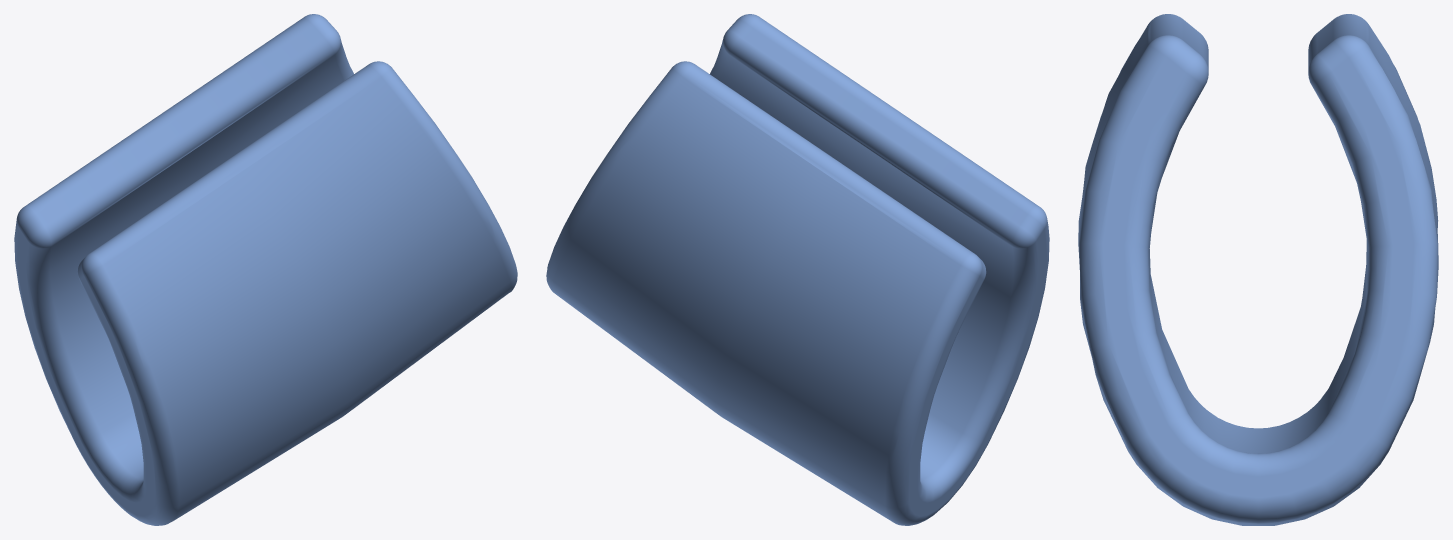
File: _60355K291_Steel_Ball_Bearing_17.gltf
3 views of the same model, side by side, from view 1: azimuth 30°, elevation 25°; view 2: azimuth 150°, elevation 25°; view 3: azimuth 270°, elevation 25° (orthographic). The views are drawn at different scales.
Parts seen in each view (by area): view 1: mesh52245, mesh52249, mesh52240, mesh52246, mesh52244, mesh52235, mesh52241, mesh52231, mesh52242, mesh52254, mesh52243, mesh52253 (+2 smaller); view 2: mesh52233, mesh52263, mesh52262, mesh52231, mesh52229, mesh52261, mesh52260, mesh52246, mesh52242, mesh52254, mesh52238, mesh52253 (+2 smaller); view 3: mesh52251, mesh52238, mesh52243, mesh52257, mesh52248, mesh52239, mesh52250, mesh52258, mesh52233, mesh52245, mesh52249, mesh52263 (+9 smaller).
Boxes of the visible parts, x1,y1,x2,y2 form: mesh52245: (103,77,510,505); mesh52249: (50,55,343,432); mesh52240: (44,37,334,245); mesh52246: (91,65,380,264); mesh52244: (84,265,179,507); mesh52235: (36,26,323,225); mesh52241: (25,241,100,442); mesh52231: (26,17,313,213); mesh52242: (173,281,511,520); mesh52254: (17,229,154,516); mesh52243: (382,68,516,280); mesh52253: (81,433,146,502); mesh52233: (553,77,960,505); mesh52263: (720,55,1013,432); mesh52262: (729,37,1019,245); mesh52231: (683,65,972,264); mesh52229: (885,265,979,507); mesh52261: (740,26,1027,225); mesh52260: (963,241,1038,442); mesh52246: (750,17,1037,213); mesh52242: (552,281,890,520); mesh52254: (909,229,1046,516); mesh52238: (547,68,681,280); mesh52253: (917,433,982,502); mesh52251: (1103,58,1413,497); mesh52238: (1349,45,1438,447); mesh52243: (1078,45,1167,447); mesh52257: (1124,71,1203,423); mesh52248: (1313,71,1392,423); mesh52239: (1128,435,1388,523); mesh52250: (1167,413,1349,476); mesh52258: (1188,389,1328,453); mesh52233: (1368,24,1438,450); mesh52245: (1078,24,1148,450); mesh52249: (1314,90,1367,413); mesh52263: (1148,133,1188,413).
Size of the model in its own units: 0.00292 by 0.0027 by 0.00147.
